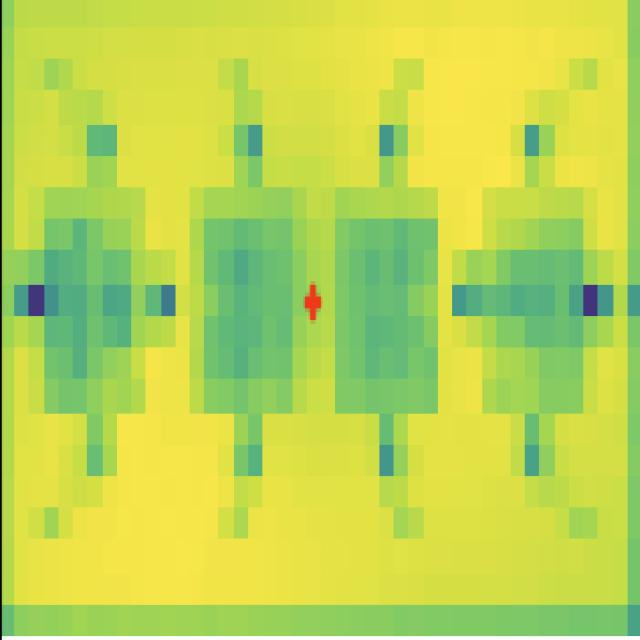Concrete: (479, 178, 591, 421)
Glass: (320, 148, 456, 427)
Metal: (45, 164, 155, 428)
Wood: (185, 155, 312, 431)
